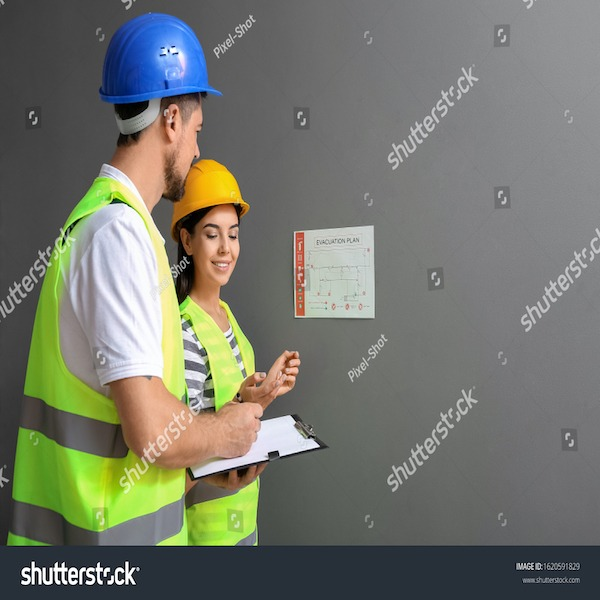helmet: (98, 13, 228, 110), (167, 159, 254, 225)
vest: (4, 231, 174, 553), (177, 280, 263, 540)
